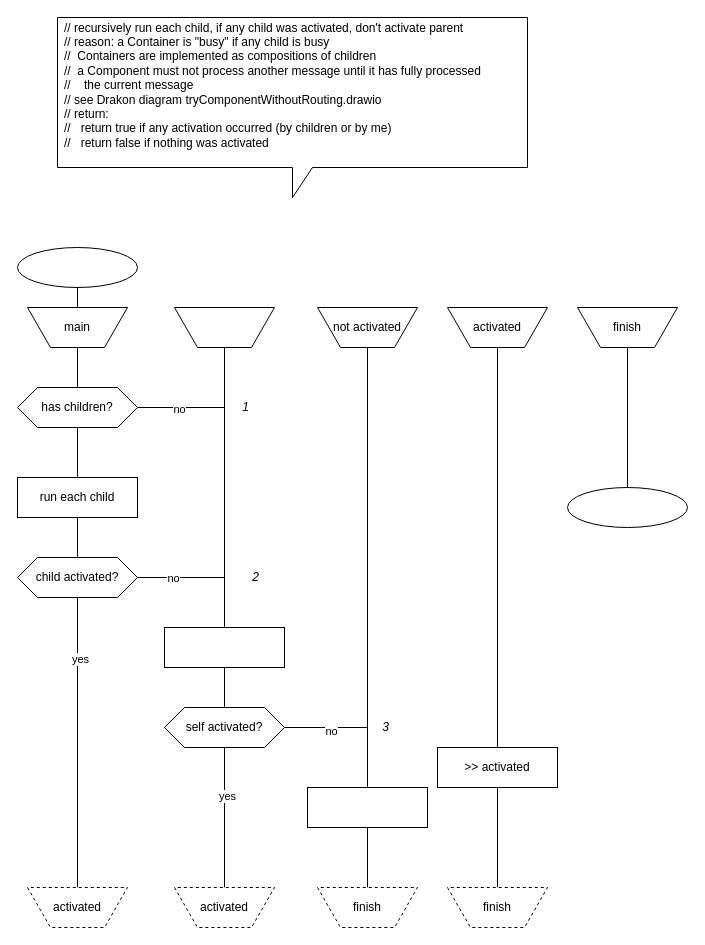
This 705x945 diagram has some shape labels left out. Here are the shapes that lost their labels. From the top down, the centre of each, then its label:
point (77, 267): Try component
point (224, 327): try self
point (627, 507): end
point (224, 647): run self
point (367, 807): >> not activated
